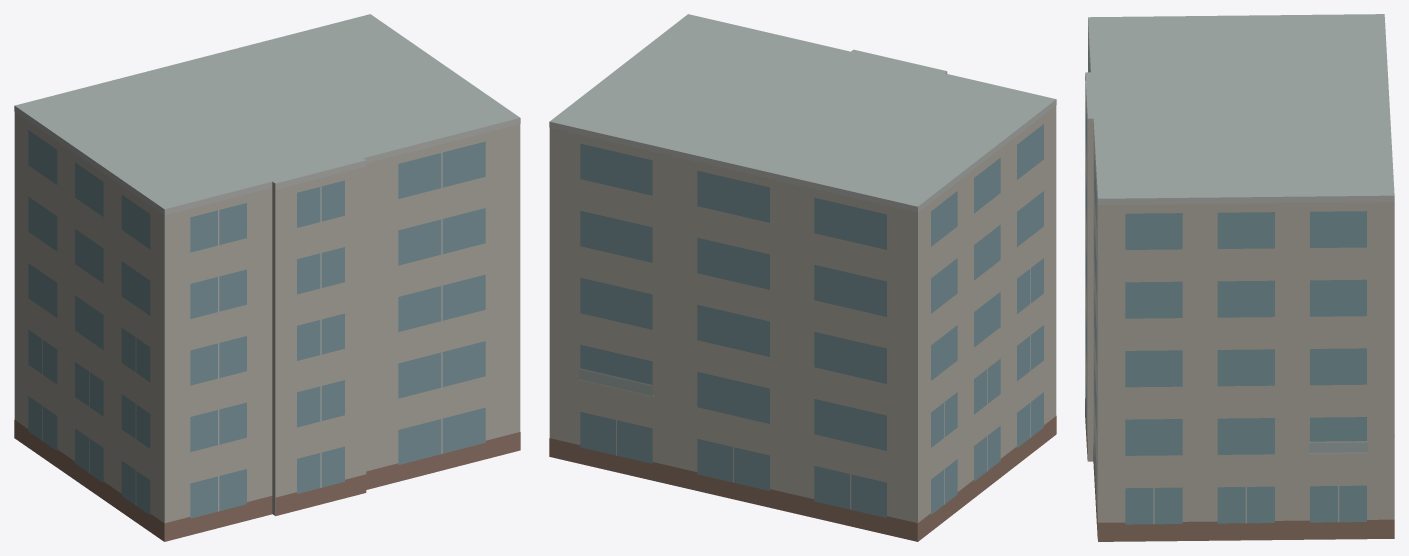
Rendered from survey-upis-32838407.glb.
The picture shows the model from 3 angles, left to right: view 1: azimuth 30°, elevation 25°; view 2: azimuth 150°, elevation 25°; view 3: azimuth 270°, elevation 25°; orthographic projection. The views are drawn at different scales.
Visible parts, largest first — view 1: survey-upis-32838407.tmp; view 2: survey-upis-32838407.tmp; view 3: survey-upis-32838407.tmp.
Boxes of the visible parts, x1,y1,x2,y2 form: survey-upis-32838407.tmp: [14, 14, 520, 541]; survey-upis-32838407.tmp: [549, 14, 1056, 541]; survey-upis-32838407.tmp: [1085, 14, 1394, 541].
Size of the model in its own units: 15.37 by 13.3 by 10.89.
